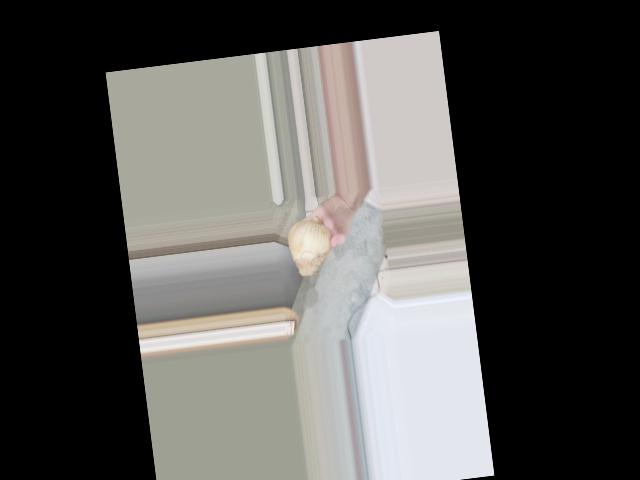onion: (288, 218, 337, 278)
